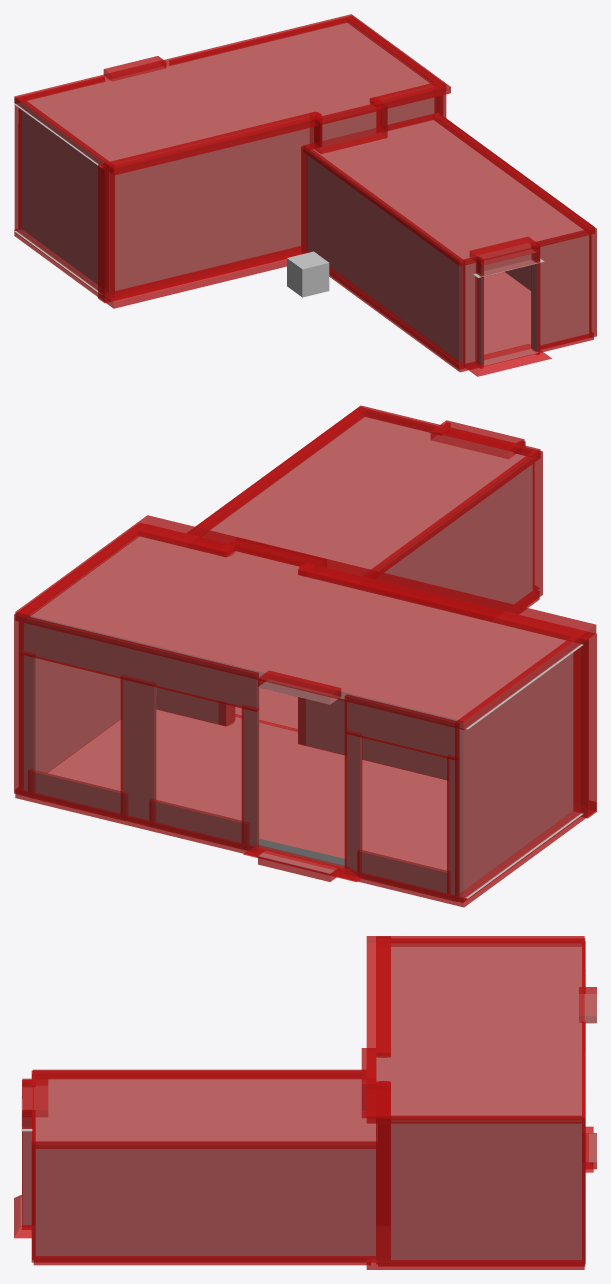
File: CT_Interior_004.dae
3 renders of one model, top to bottom at view 1: azimuth 30°, elevation 25°; view 2: azimuth 150°, elevation 25°; view 3: azimuth 270°, elevation 25°, orthographic. The views are drawn at different scales.
Parts seen in each view (by area): view 1: colmesh-2, _004_int100, _004_int-1; view 2: colmesh-2, _004_int100; view 3: colmesh-2, _004_int100.
Part boxes in pixels (x1=…): colmesh-2: x1=14, y1=14, x2=596, y2=376; _004_int100: x1=14, y1=22, x2=588, y2=365; _004_int-1: x1=287, y1=251, x2=329, y2=297; colmesh-2: x1=14, y1=405, x2=596, y2=907; _004_int100: x1=24, y1=416, x2=583, y2=898; colmesh-2: x1=14, y1=936, x2=596, y2=1269; _004_int100: x1=20, y1=943, x2=596, y2=1259.
Bounding box in the file's own units: 102 × 39.68 × 137.
